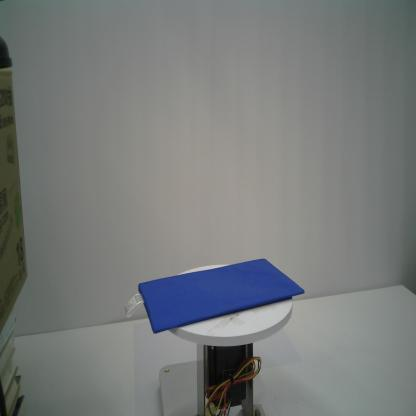Stationery: (122, 256, 306, 336)
